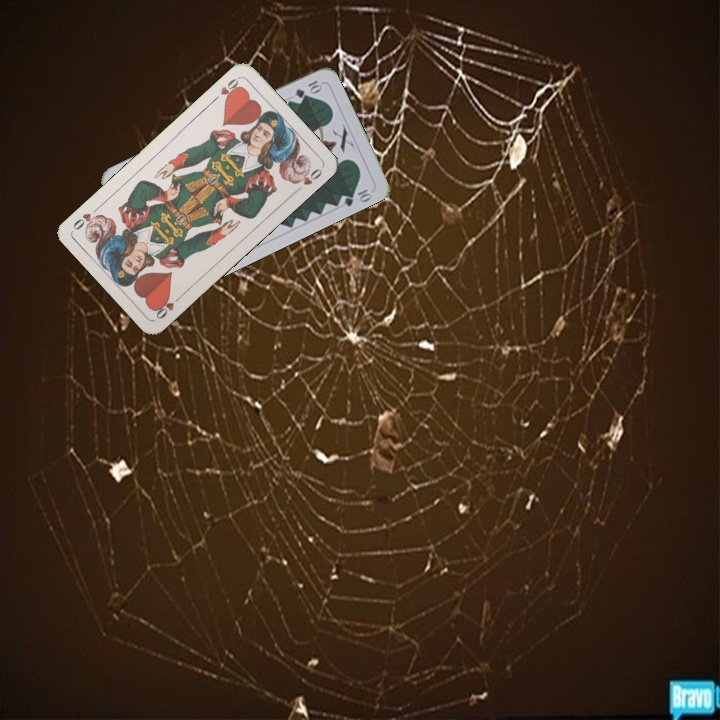G10: (291, 76, 324, 101)
HO: (208, 73, 243, 105), (151, 291, 185, 322)
